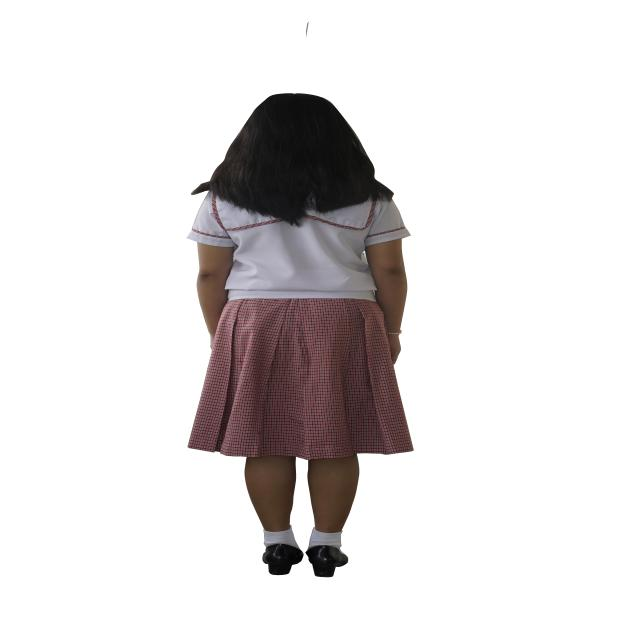skirt: (188, 298, 412, 460)
